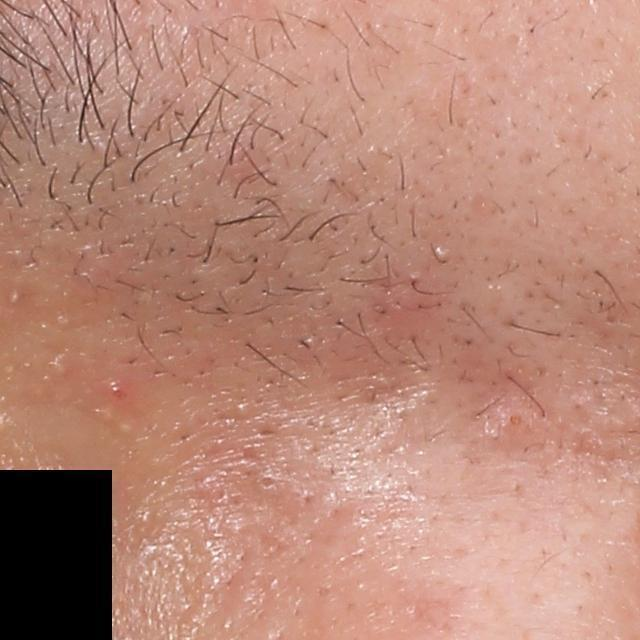comedo: (255, 467, 286, 501)
